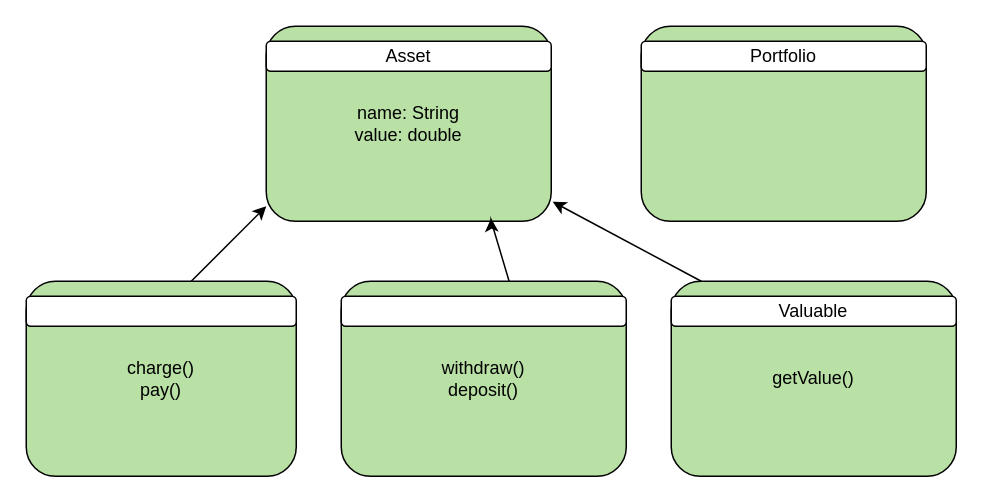
Some shapes in this 983 by 503 pixel diagram are drawn without their labels. The shapes that lost their labels are listed below. From the top down, each one's box as (x1, y1, x2, y2) in pixels, then its label:
(640, 25, 926, 221): name: String owner: String assets: List<FixedAsset>
(25, 295, 296, 326): CreditCard
(340, 295, 626, 326): BankAccount
